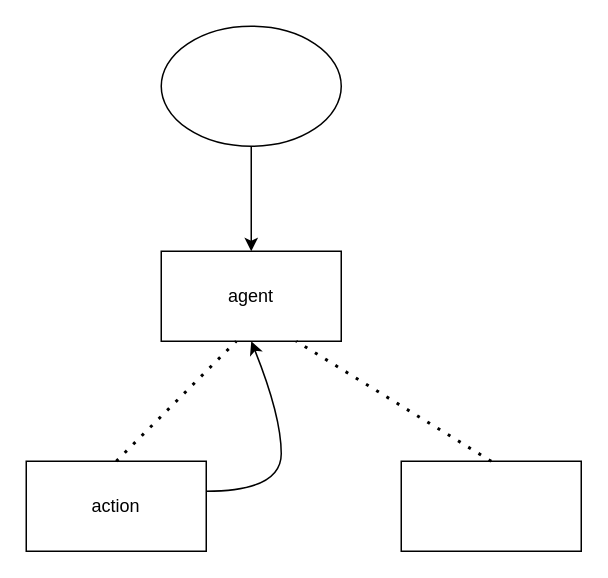
Image size: 608x578. Some labels were removed from this diagram. The shapes that lost their labels are listed below. From the top down, each one's box as (x1, y1, x2, y2) in pixels, then its label:
(160, 25, 341, 146): start
(400, 460, 581, 551): end
